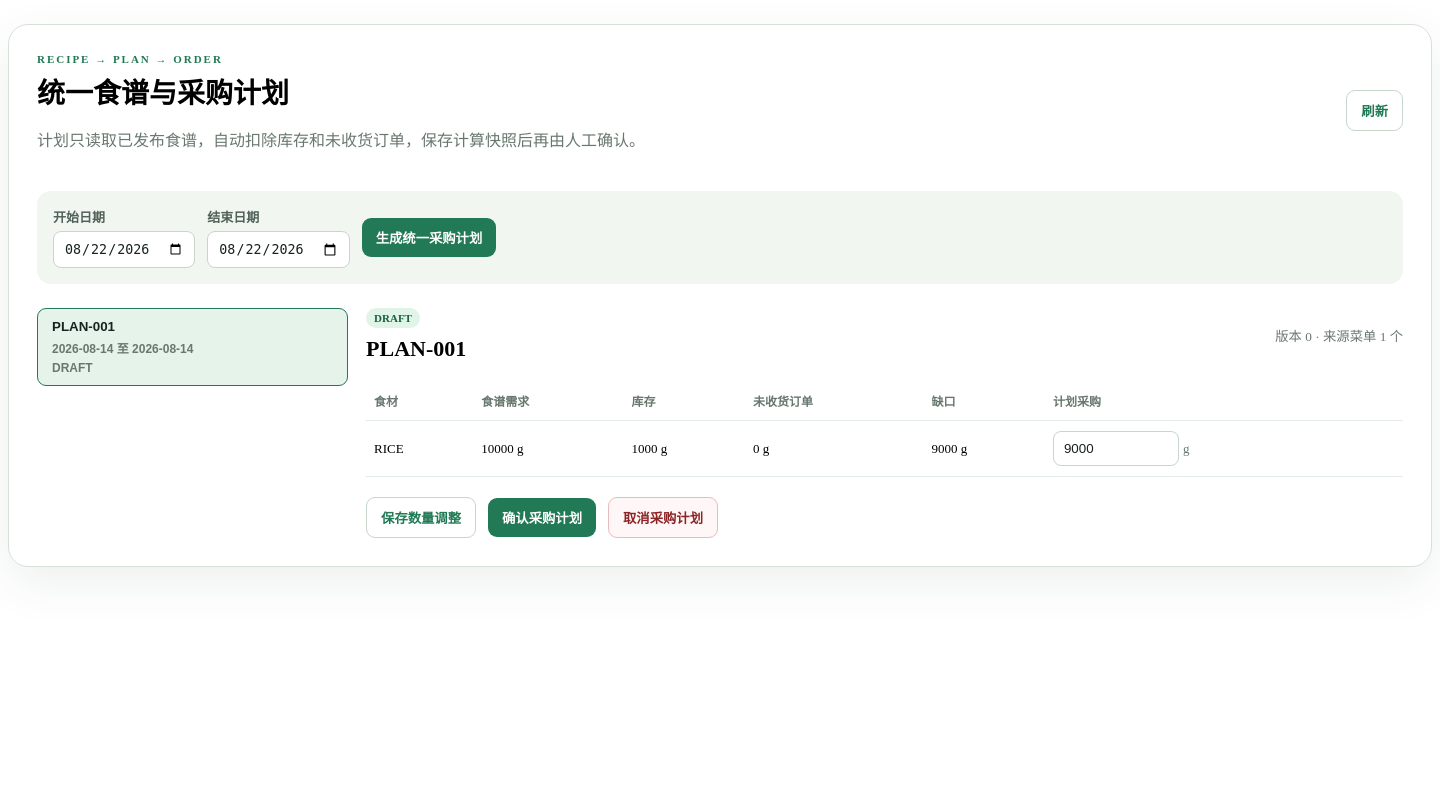
Test: ProcurementPlanWorkspace › can cancel a draft plan through the lifecycle endpoint
This screenshot has width=1440, height=810.
Click the button with test id "procurement-plan-cancel".
click(663, 518)  # box [608, 497, 718, 538]
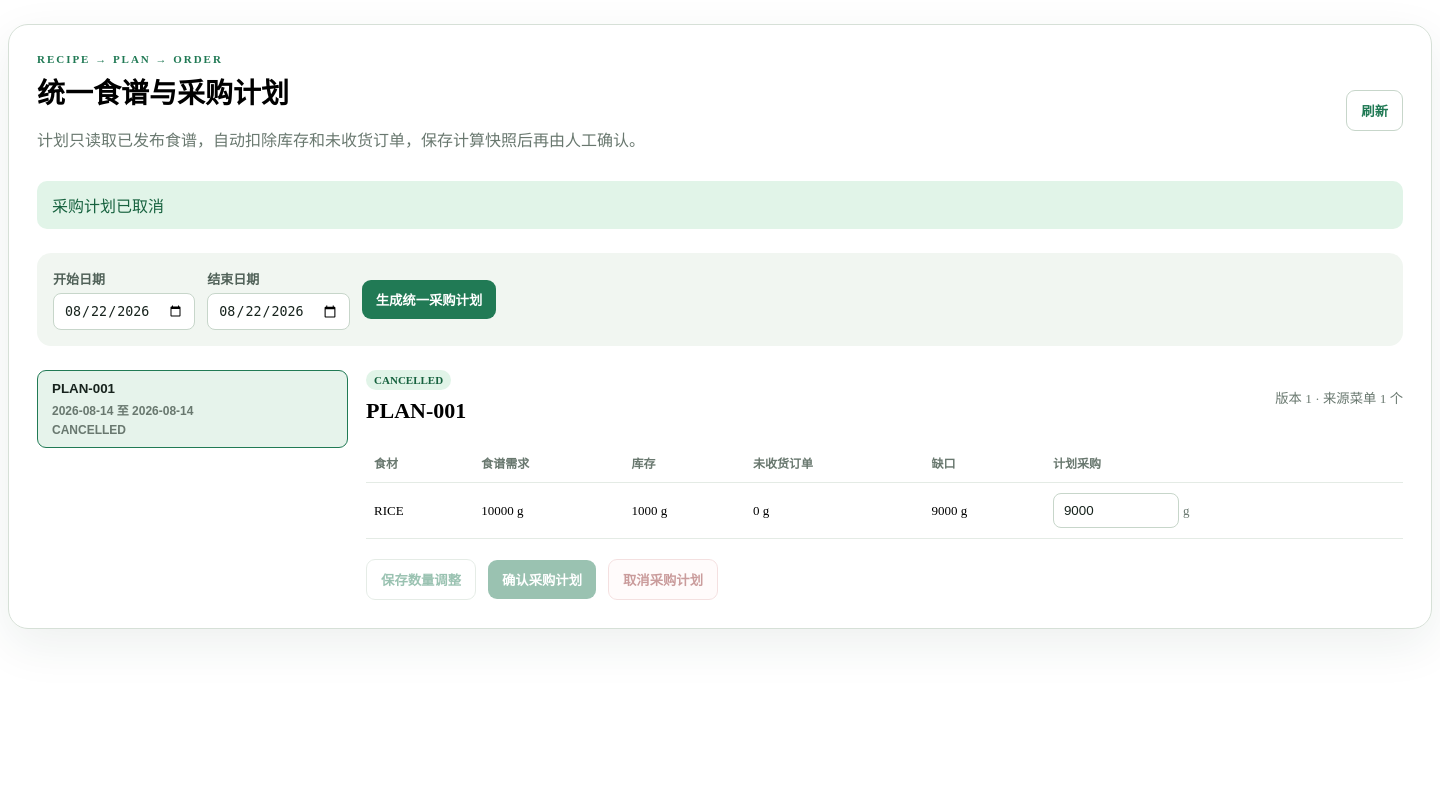
Now the text "CANCELLED" is shown, box [52, 423, 126, 437]
